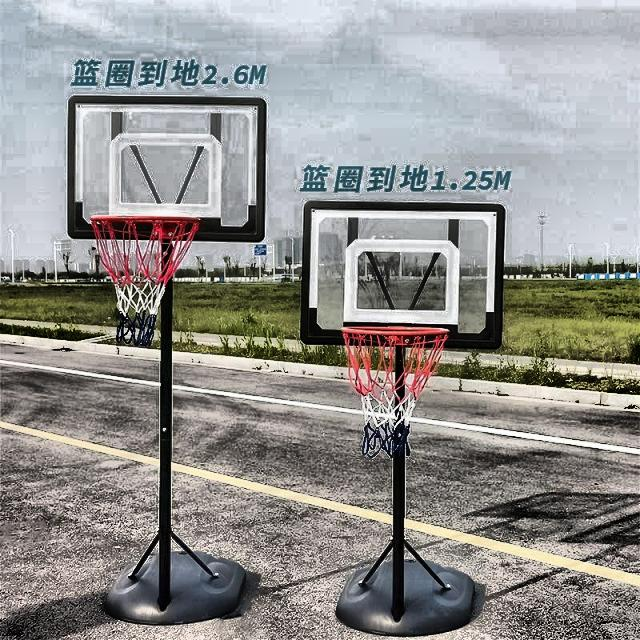rim: (86, 215, 202, 346), (340, 327, 451, 456)
